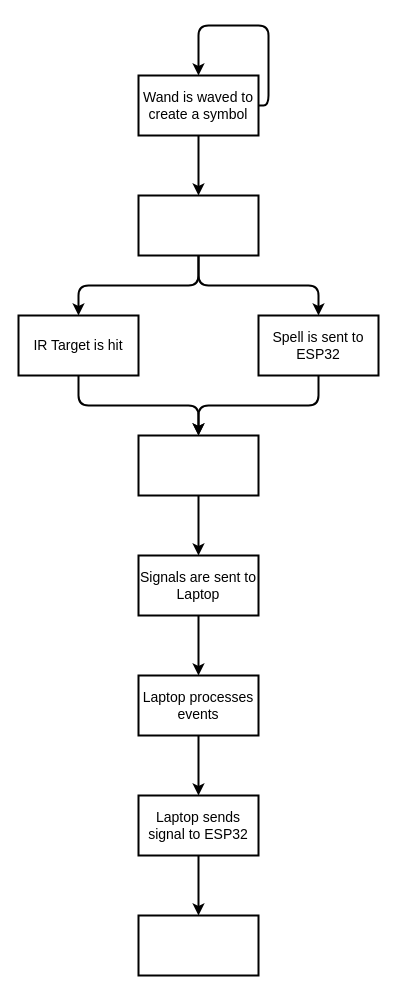
Some shapes in this 396 by 993 pixel diagram are drawn without their labels. The centre of each missing label's shape, as x and y in pixels:
"ESP32 Processes IR & Bluetooth signals" goes at point (198, 465).
"ESP32 sends signal to lights/prop" goes at point (198, 945).
"Spell is cast" goes at point (198, 225).
